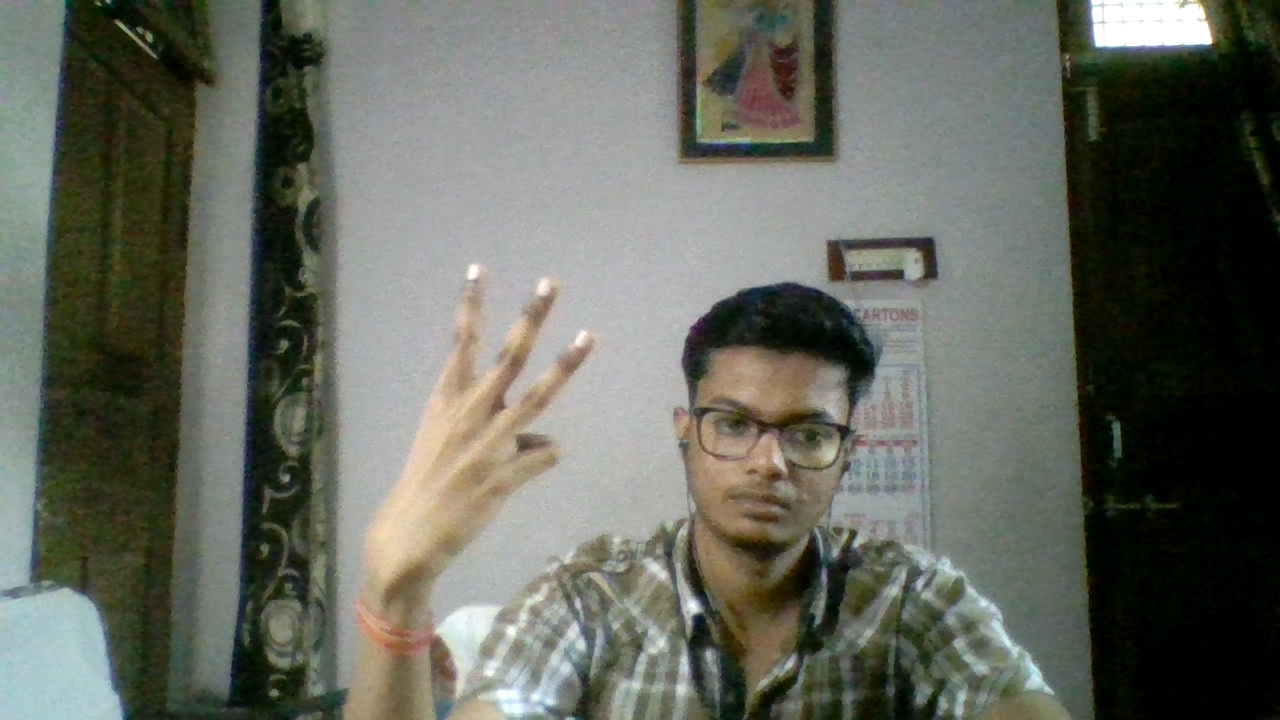three: (343, 248, 605, 657)
